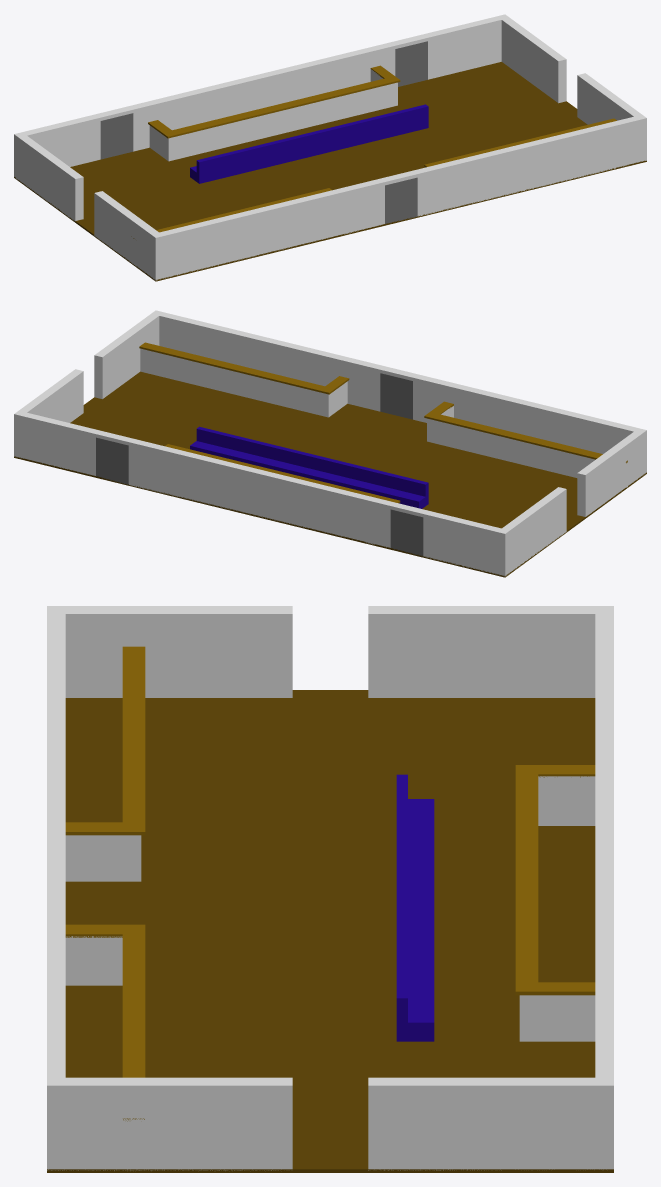
Rendered from entrance.fbx.
3 views of the same model, one above another, from view 1: azimuth 30°, elevation 25°; view 2: azimuth 150°, elevation 25°; view 3: azimuth 270°, elevation 25° (orthographic). The views are drawn at different scales.
Visible parts, largest first — view 1: floor, wall_B2, wall_B1, wall2, reception1_2, sofa1_1, wall3, wall_L1, wall_L2, wall_R1, wall1, wall_R2 (+8 smaller); view 2: floor, wall2, wall_B2, wall_B1, reception3, wall1, wall3, reception2, sofa1_1, wall_L1, wall_L2, wall_R2 (+9 smaller); view 3: floor, wall_R2, wall_R1, wall_L1, wall_L2, sofa1, reception1_1, wall_B2, wall2, reception2_1, wall_B1, reception3_1 (+12 smaller).
Boxes of the visible parts, bbox=[...] form: floor: bbox=[14, 62, 646, 281]; wall_B2: bbox=[413, 114, 646, 216]; wall_B1: bbox=[151, 178, 384, 280]; wall2: bbox=[129, 42, 395, 151]; reception1_2: bbox=[164, 82, 397, 161]; sofa1_1: bbox=[196, 104, 428, 183]; wall3: bbox=[424, 14, 507, 79]; wall_L1: bbox=[14, 133, 83, 221]; wall_L2: bbox=[94, 191, 163, 280]; wall_R1: bbox=[497, 14, 566, 103]; wall1: bbox=[14, 114, 100, 179]; wall_R2: bbox=[577, 73, 646, 161]; floor: bbox=[14, 371, 646, 577]; wall2: bbox=[128, 438, 394, 547]; wall_B2: bbox=[151, 310, 384, 411]; wall_B1: bbox=[413, 374, 643, 453]; reception3: bbox=[140, 348, 333, 416]; wall1: bbox=[423, 510, 509, 576]; wall3: bbox=[14, 410, 99, 475]; reception2: bbox=[427, 418, 627, 487]; sofa1_1: bbox=[196, 426, 428, 505]; wall_L1: bbox=[497, 487, 566, 576]; wall_L2: bbox=[577, 428, 646, 516]; wall_R2: bbox=[94, 310, 163, 399]; floor: bbox=[47, 690, 613, 1172]; wall_R2: bbox=[47, 1077, 292, 1170]; wall_R1: bbox=[368, 1077, 613, 1170]; wall_L1: bbox=[368, 606, 613, 697]; wall_L2: bbox=[47, 606, 292, 697]; sofa1: bbox=[396, 799, 434, 1041]; reception1_1: bbox=[515, 766, 538, 989]; wall_B2: bbox=[47, 861, 65, 1170]; wall2: bbox=[595, 718, 613, 973]; reception2_1: bbox=[122, 646, 145, 830]; wall_B1: bbox=[47, 606, 65, 829]; reception3_1: bbox=[122, 934, 145, 1121].
Size of the model in its own units: 300 by 26.9 by 150.
